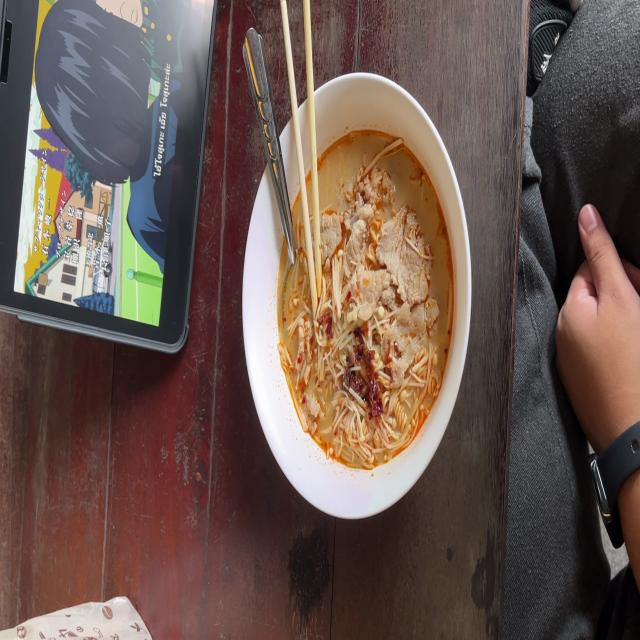noodle: (272, 124, 470, 474)
